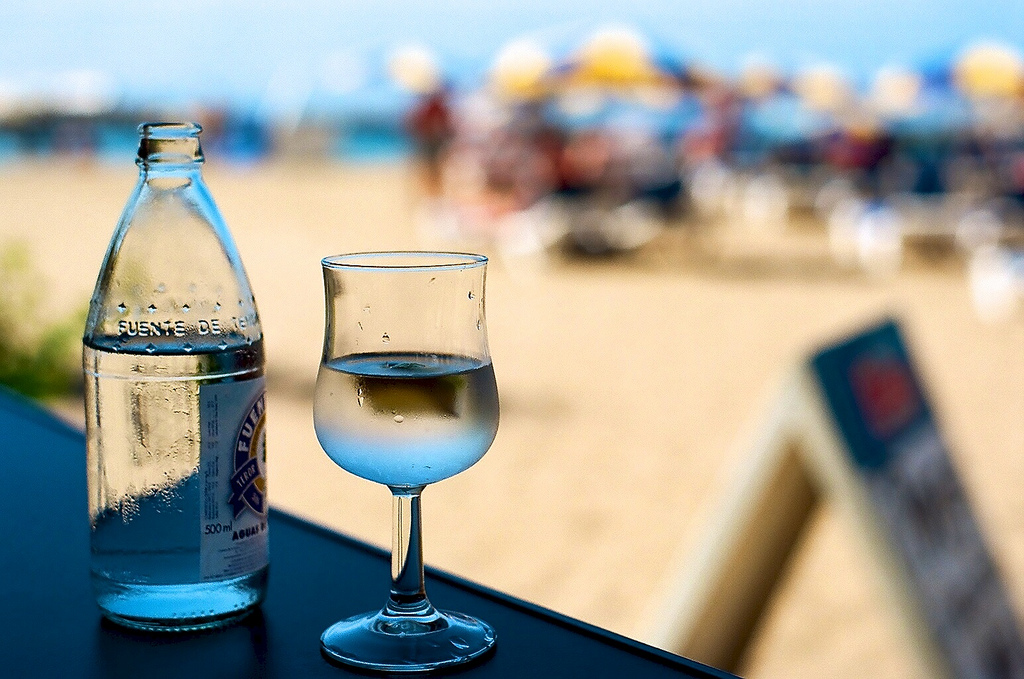glass of water: (67, 265, 287, 633), (315, 253, 499, 668)
